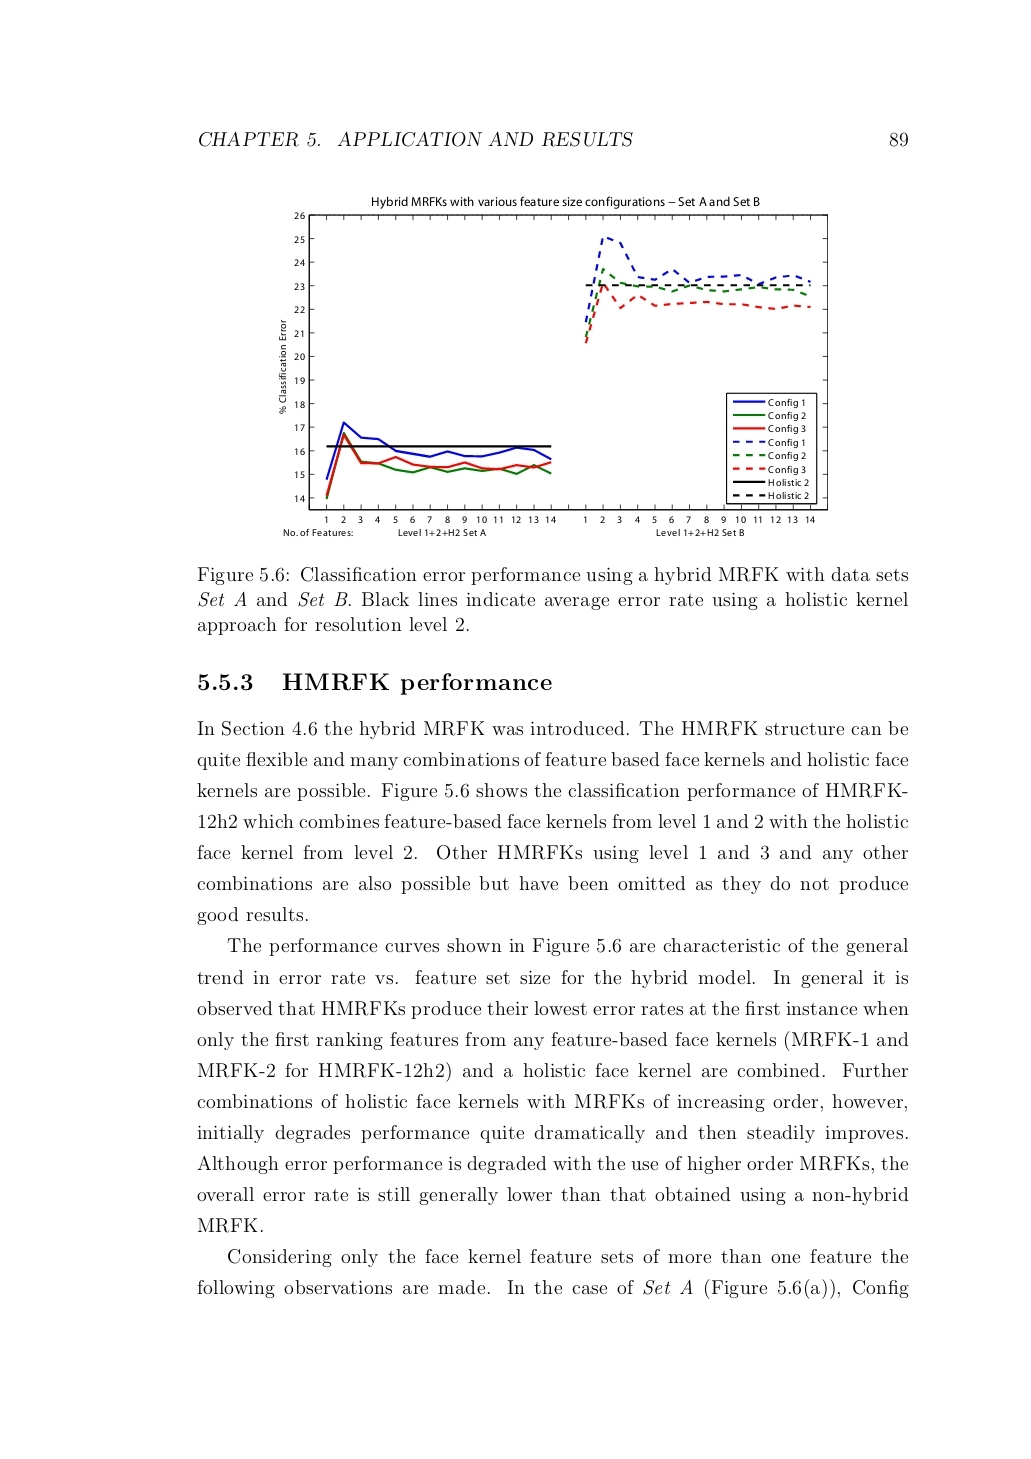figure: (278, 200, 827, 535)
